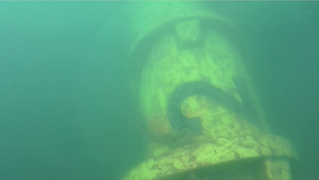2: (166, 75, 264, 137)
pipe: (120, 1, 296, 180)
